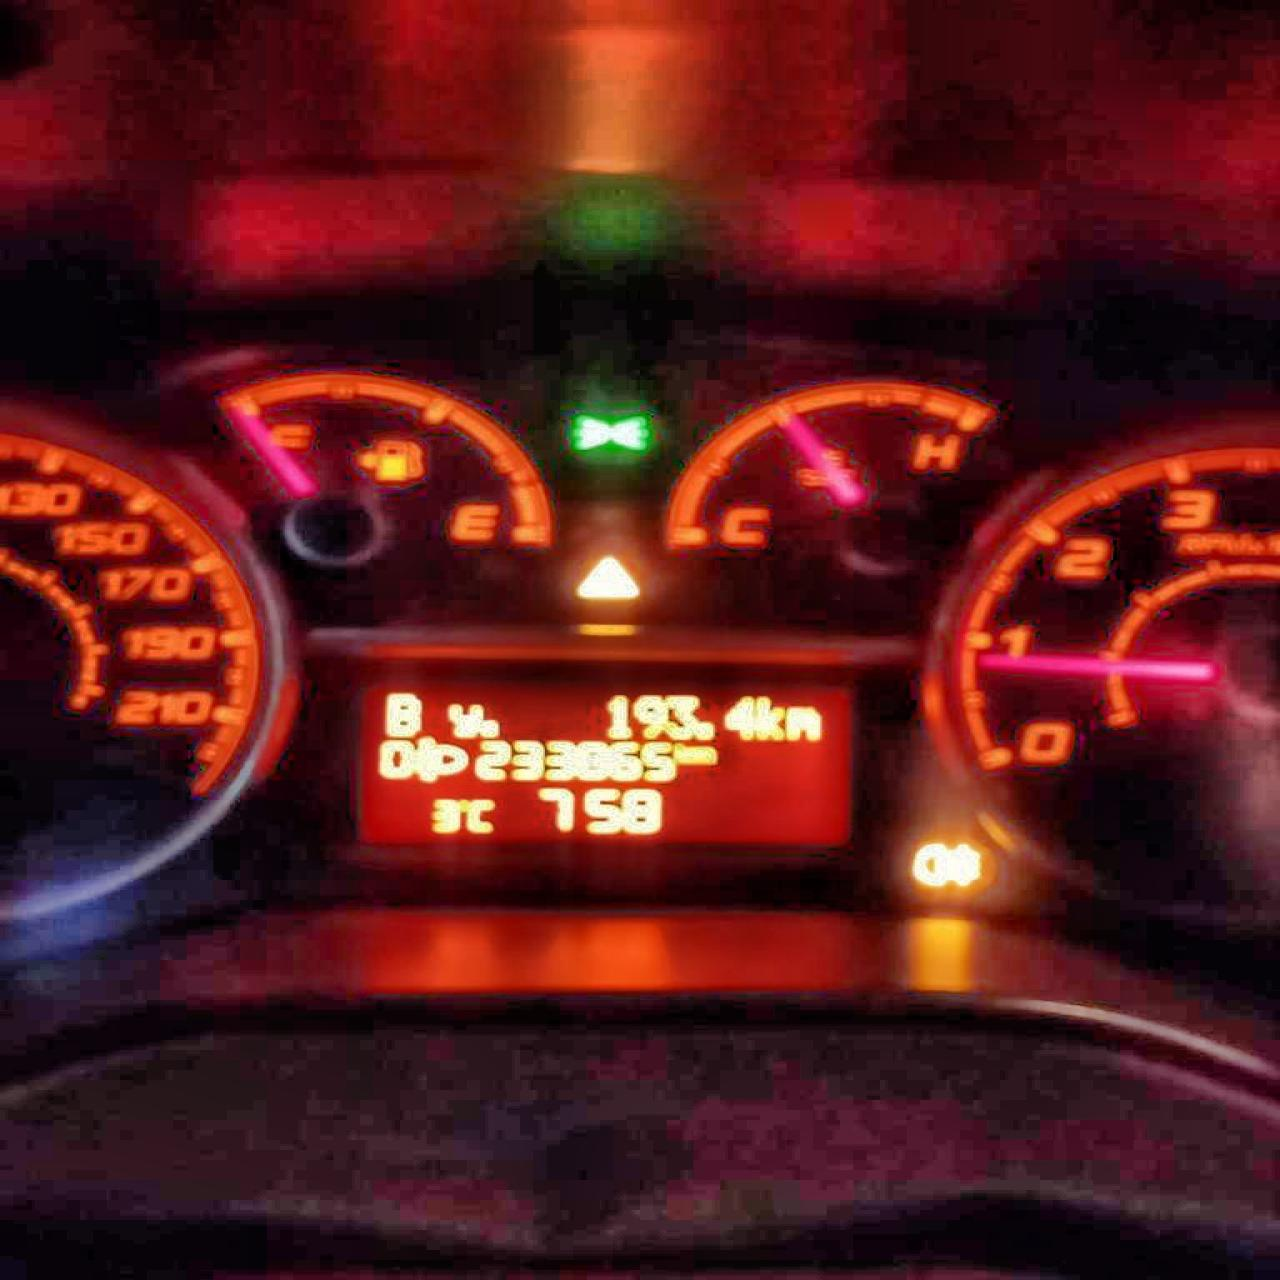-: (695, 719, 715, 740), (482, 716, 498, 738)
0: (375, 737, 414, 781)
1: (601, 693, 631, 738)
2: (470, 738, 509, 782)
3: (542, 737, 576, 782), (665, 693, 695, 738), (511, 737, 542, 782), (429, 796, 458, 835)
4: (722, 694, 755, 740)
5: (580, 787, 618, 835), (640, 740, 673, 781)
6: (607, 738, 640, 782)
7: (532, 783, 576, 832)
8: (620, 785, 660, 835), (576, 738, 607, 782)
9: (629, 692, 665, 740)
X: (380, 689, 420, 736), (440, 699, 481, 740), (755, 692, 783, 741), (785, 703, 821, 741), (467, 797, 491, 832), (688, 745, 716, 765), (674, 738, 688, 765)
odometer: (343, 674, 859, 852)
